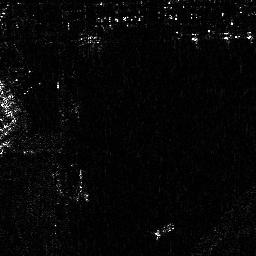ship: (154, 222, 175, 239)
